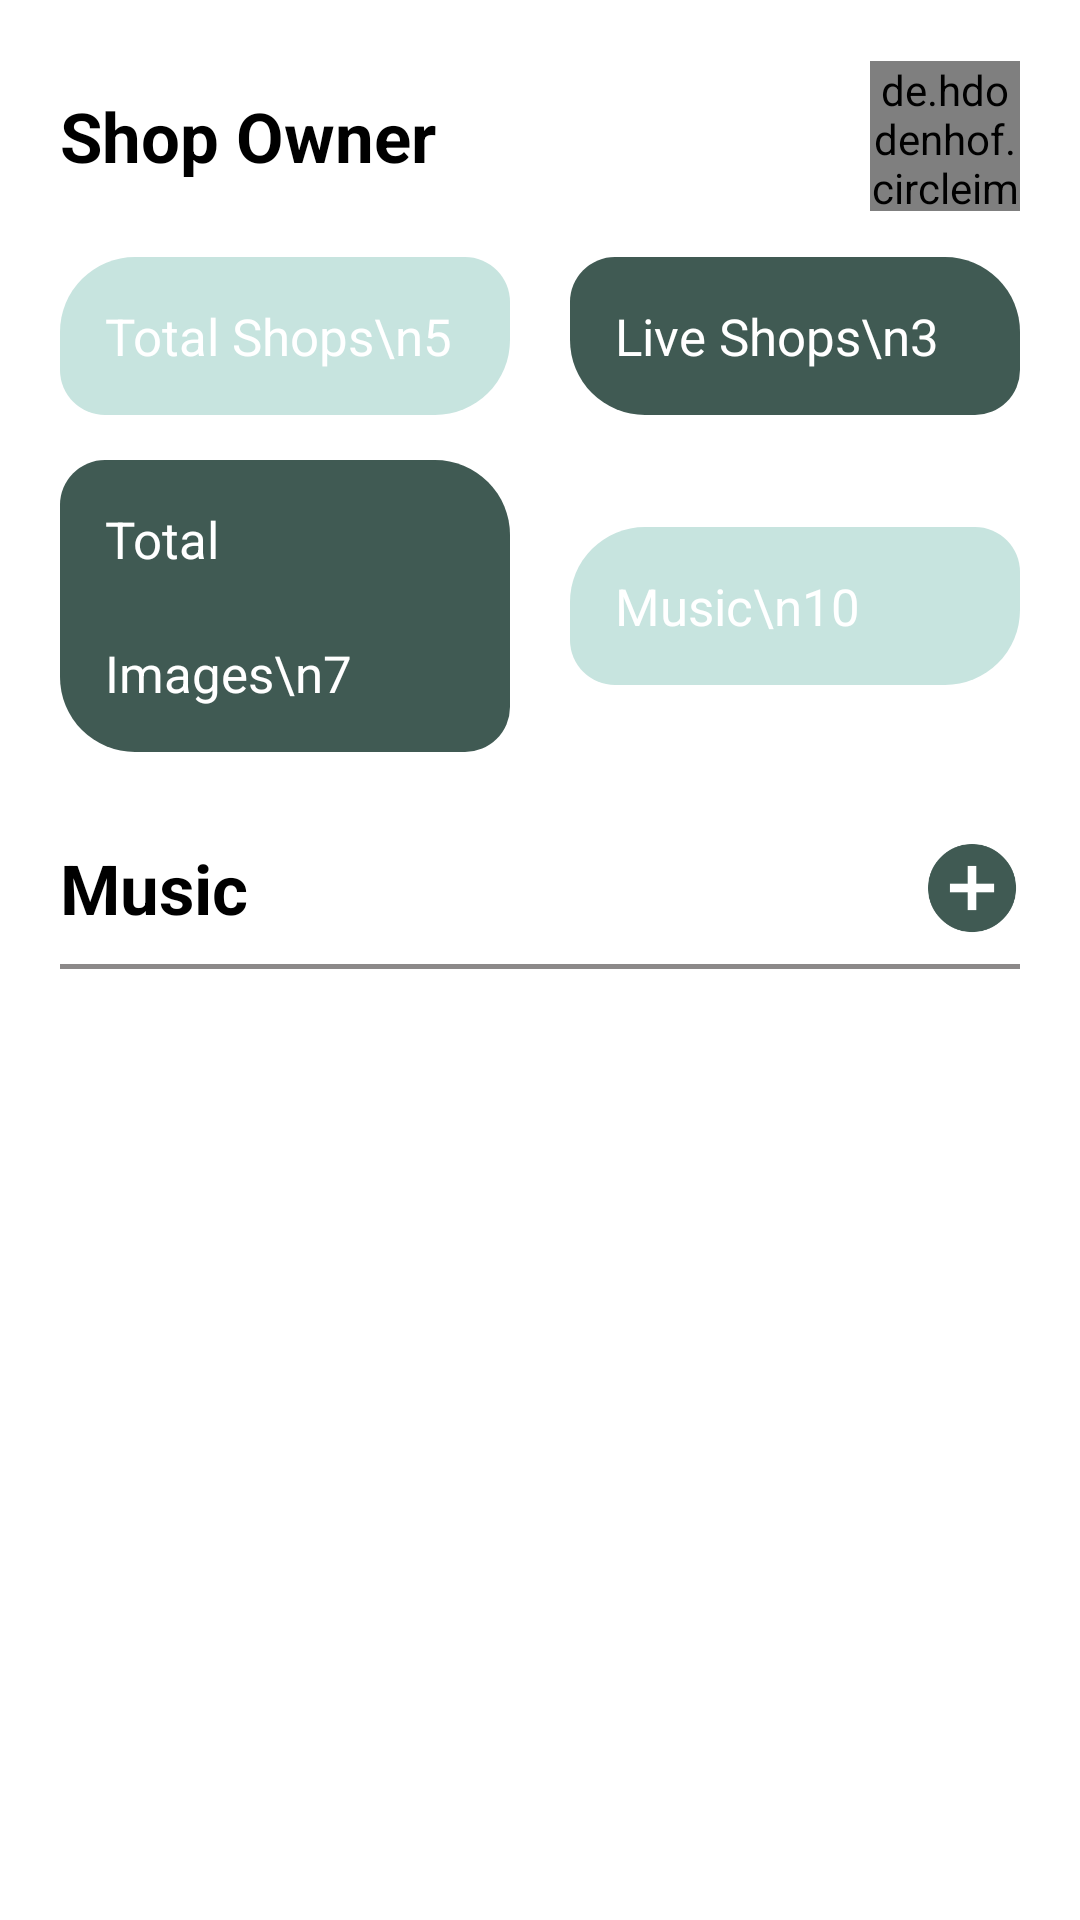

Icons on this 1080 x 1920 Android screen, each with its box as region(x1, y1, x2, y2):
add circle: region(928, 844, 1016, 932)
